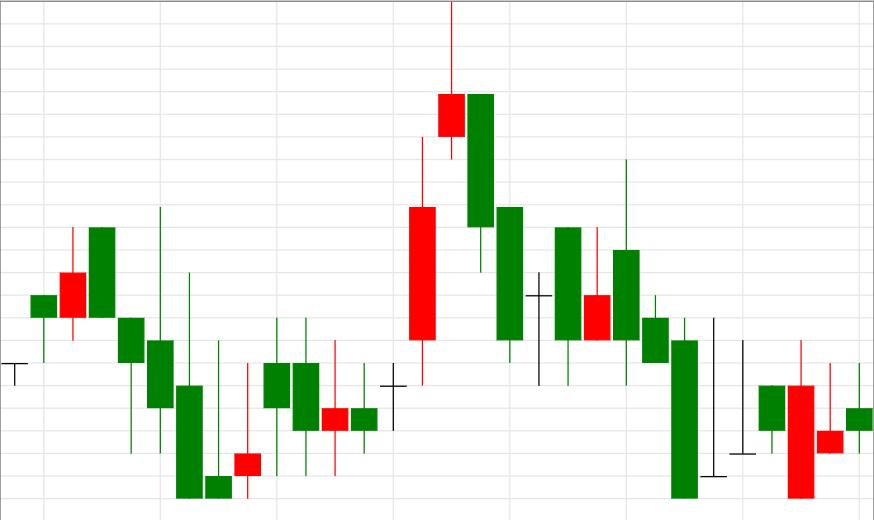shooting_star_fall: (320, 2, 465, 478)
